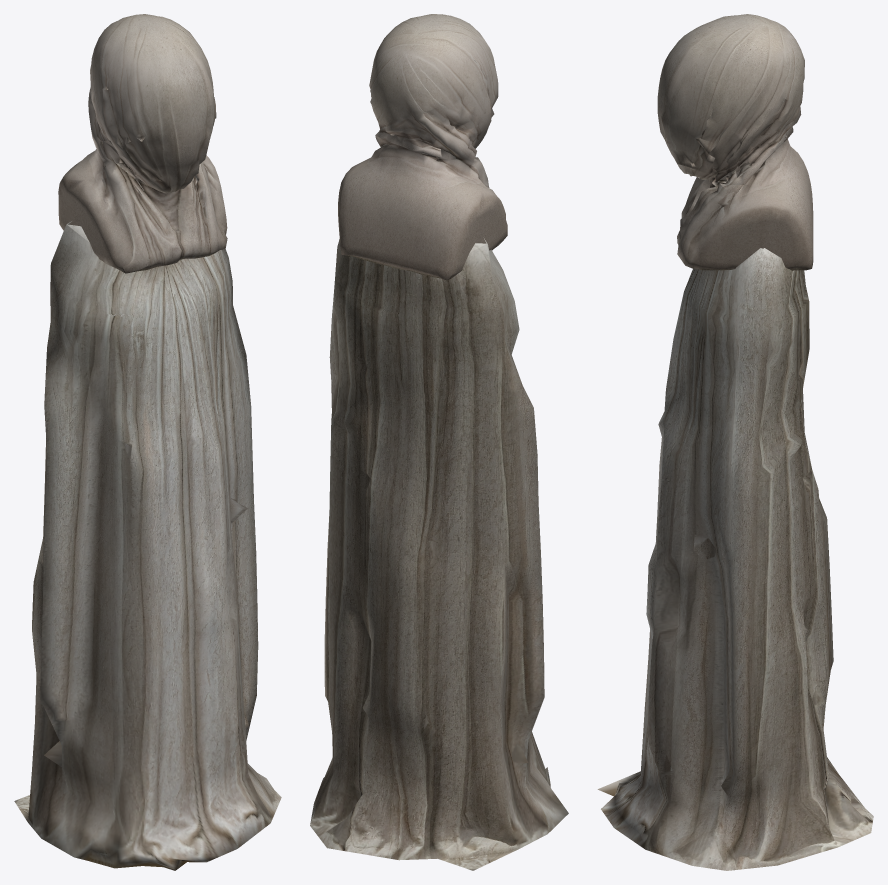
The model's file is Combined_v2.glb.
The picture shows the model from 3 angles, left to right: view 1: azimuth 30°, elevation 25°; view 2: azimuth 150°, elevation 25°; view 3: azimuth 270°, elevation 25°; orthographic projection.
Visible parts, largest first — view 1: Body, Head; view 2: Body, Head; view 3: Body, Head.
Part boxes in pixels (x1,y1,x2,y2): Body: [14, 221, 281, 870]; Head: [58, 14, 227, 273]; Body: [310, 238, 568, 870]; Head: [338, 14, 507, 280]; Body: [597, 248, 873, 870]; Head: [657, 14, 813, 270].
Bounding box in the file's own units: 0.3334 × 1.12 × 0.3501.
Materials: 2 (2 with a texture image).
